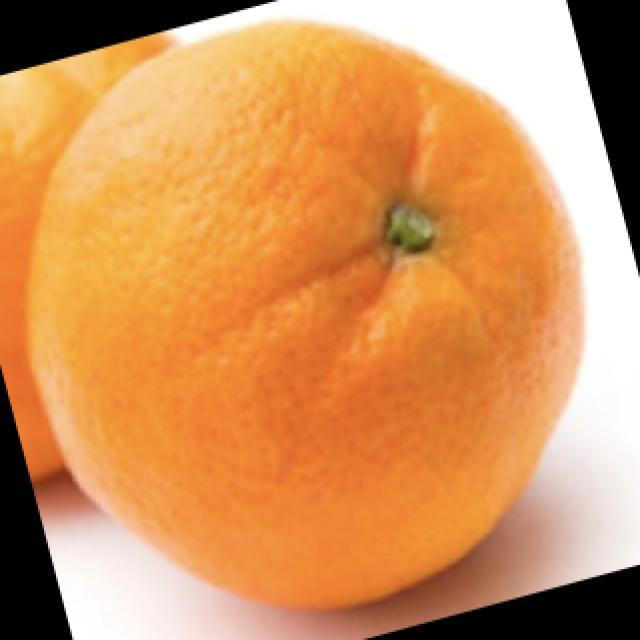Orange: (23, 18, 586, 612), (0, 30, 177, 484)
